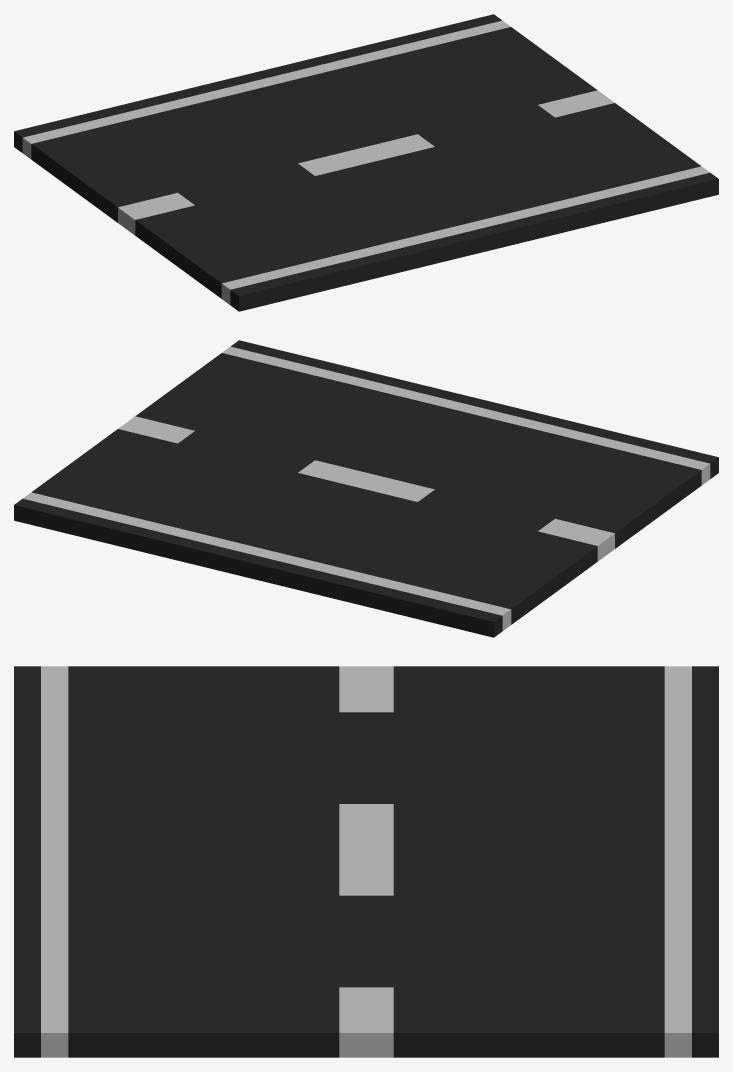
Rendered from road-straight-1.gltf.
3 views of the same model, one above another, from view 1: azimuth 30°, elevation 25°; view 2: azimuth 150°, elevation 25°; view 3: azimuth 270°, elevation 25° (orthographic). The views are drawn at different scales.
Parts seen in each view (by area): view 1: road-straight-1; view 2: road-straight-1; view 3: road-straight-1.
Part boxes in pixels (x1,y1,x2,y2): road-straight-1: (14, 14, 718, 311); road-straight-1: (14, 340, 718, 637); road-straight-1: (14, 666, 718, 1057).
Bounding box in the file's own units: 3.2 × 0.1 × 2.6.
Materials: 1 (1 with a texture image).
